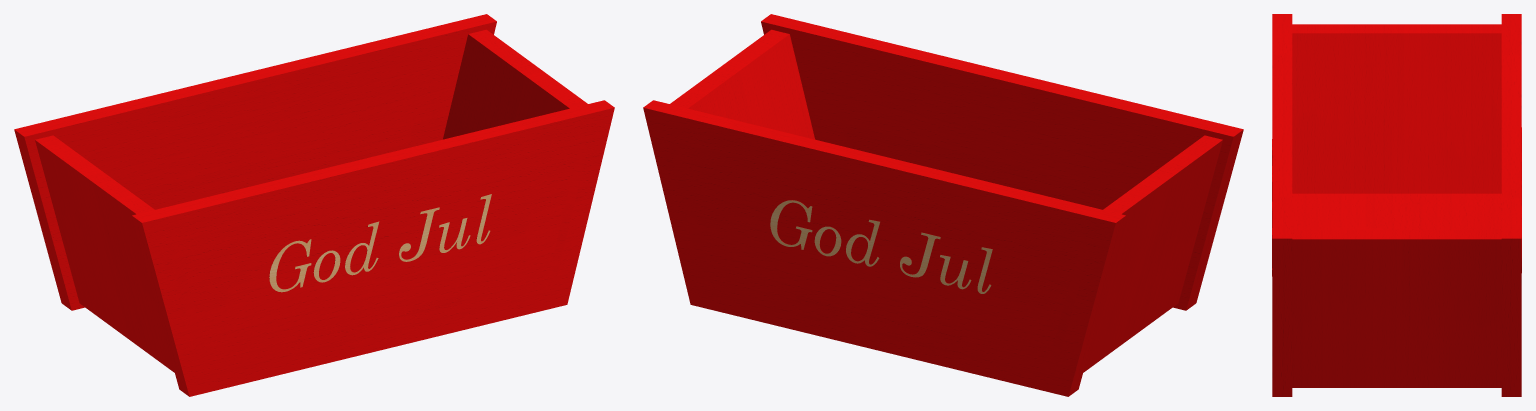
3 renders of one model, left to right at view 1: azimuth 30°, elevation 25°; view 2: azimuth 150°, elevation 25°; view 3: azimuth 270°, elevation 25°, orthographic. The views are drawn at different scales.
Visible parts, largest first — view 1: Jullåda vägg 1-2, Jullåda vägg 1-1, Jullåda vägg 2-2, Jullåda vägg 2-1, Jullåda botten-1; view 2: Jullåda vägg 1-1, Jullåda vägg 1-2, Jullåda vägg 2-2, Jullåda vägg 2-1, Jullåda botten-1; view 3: Jullåda vägg 2-2, Jullåda vägg 2-1, Jullåda vägg 1-1, Jullåda vägg 1-2, Jullåda botten-1.
Boxes of the visible parts, x1,y1,x2,y2 form: Jullåda vägg 1-2: (132, 100, 614, 396); Jullåda vägg 1-1: (14, 14, 496, 310); Jullåda vägg 2-2: (35, 135, 209, 372); Jullåda vägg 2-1: (443, 29, 588, 279); Jullåda botten-1: (295, 295, 461, 344); Jullåda vägg 1-1: (643, 100, 1125, 396); Jullåda vägg 1-2: (761, 14, 1243, 310); Jullåda vägg 2-2: (1048, 135, 1222, 372); Jullåda vägg 2-1: (669, 29, 814, 279); Jullåda botten-1: (796, 295, 962, 344); Jullåda vägg 2-2: (1292, 24, 1501, 193); Jullåda vägg 2-1: (1292, 230, 1501, 387); Jullåda vägg 1-1: (1501, 14, 1521, 396); Jullåda vägg 1-2: (1272, 14, 1292, 396); Jullåda botten-1: (1292, 193, 1501, 230).
Size of the model in its own units: 0.32 by 0.12 by 0.1502.
4 materials, 4 textured.
